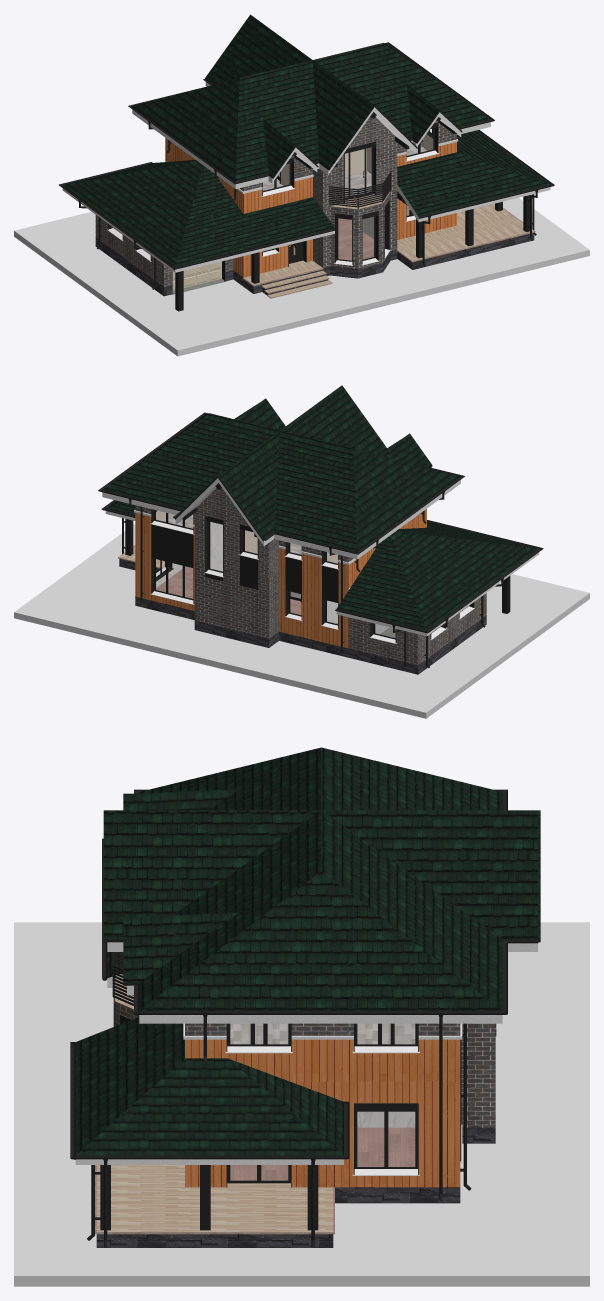
3 renders of one model, top to bottom at view 1: azimuth 30°, elevation 25°; view 2: azimuth 150°, elevation 25°; view 3: azimuth 270°, elevation 25°, orthographic. The views are drawn at different scales.
Parts seen in each view (by area): view 1: roof_Plane.018, Cube, main1_Plane.010, main2_Plane.015, Cylinder.009_Cylinder, Cube.091_Cube.056, Plane.042_Plane.037, ceiling1-floor2_Plane.025, Cube.090_Cube.085, main1.001_Plane.038, Cylinder.005_Cylinder.018, Cube.086_Cube.082; view 2: roof_Plane.018, Cube, main1_Plane.010, main2_Plane.015, Cylinder.009_Cylinder, Cube.074_Cube.072, Cylinder.005_Cylinder.018, Cube.077_Cube.075, Cube.076_Cube.074, Cube.080_Cube.074, Cube.091_Cube.056, Cube.075_Cube.073; view 3: roof_Plane.018, Cube, main1_Plane.010, main2_Plane.015, Cylinder.009_Cylinder, Cylinder.005_Cylinder.018, ceiling1-floor2_Plane.025, Cube.071_Cube.060, Cube.091_Cube.056, Cube.068_Cube.022, Cube.069_Cube.022.
Boxes of the visible parts, box(x1,y1,x2,y2) form: roof_Plane.018: box(62, 14, 550, 272); Cube: box(14, 198, 589, 356); main1_Plane.010: box(95, 160, 535, 296); main2_Plane.015: box(165, 117, 456, 213); Cylinder.009_Cylinder: box(59, 42, 554, 269); Cube.091_Cube.056: box(175, 191, 529, 311); Plane.042_Plane.037: box(329, 171, 391, 209); ceiling1-floor2_Plane.025: box(263, 146, 427, 209); Cube.090_Cube.085: box(172, 260, 225, 294); main1.001_Plane.038: box(261, 270, 332, 298); Cylinder.005_Cylinder.018: box(78, 121, 538, 289); Cube.086_Cube.082: box(344, 141, 376, 202); roof_Plane.018: box(102, 385, 539, 636); Cube: box(14, 524, 589, 718); main1_Plane.010: box(118, 536, 486, 674); main2_Plane.015: box(135, 488, 426, 588); Cylinder.009_Cylinder: box(98, 412, 543, 633); Cube.074_Cube.072: box(150, 524, 194, 604); Cylinder.005_Cylinder.018: box(122, 491, 503, 670); Cube.077_Cube.075: box(239, 524, 258, 589); Cube.076_Cube.074: box(285, 557, 302, 620); Cube.080_Cube.074: box(321, 565, 338, 629); Cube.091_Cube.056: box(125, 519, 510, 613); Cube.075_Cube.073: box(204, 516, 223, 581); roof_Plane.018: box(75, 747, 540, 1164); Cube: box(14, 922, 589, 1286); main1_Plane.010: box(95, 1001, 495, 1247); main2_Plane.015: box(185, 1023, 460, 1081); Cylinder.009_Cylinder: box(70, 789, 538, 1159); Cylinder.005_Cylinder.018: box(74, 1014, 471, 1247); ceiling1-floor2_Plane.025: box(114, 977, 415, 1044); Cube.071_Cube.060: box(352, 1103, 419, 1175); Cube.091_Cube.056: box(100, 1165, 318, 1230); Cube.068_Cube.022: box(225, 1023, 292, 1053); Cube.069_Cube.022: box(352, 1023, 419, 1053).
Bounding box in the file's own units: 34.24 × 14.15 × 23.57.
Materials: 17 (15 with a texture image).
